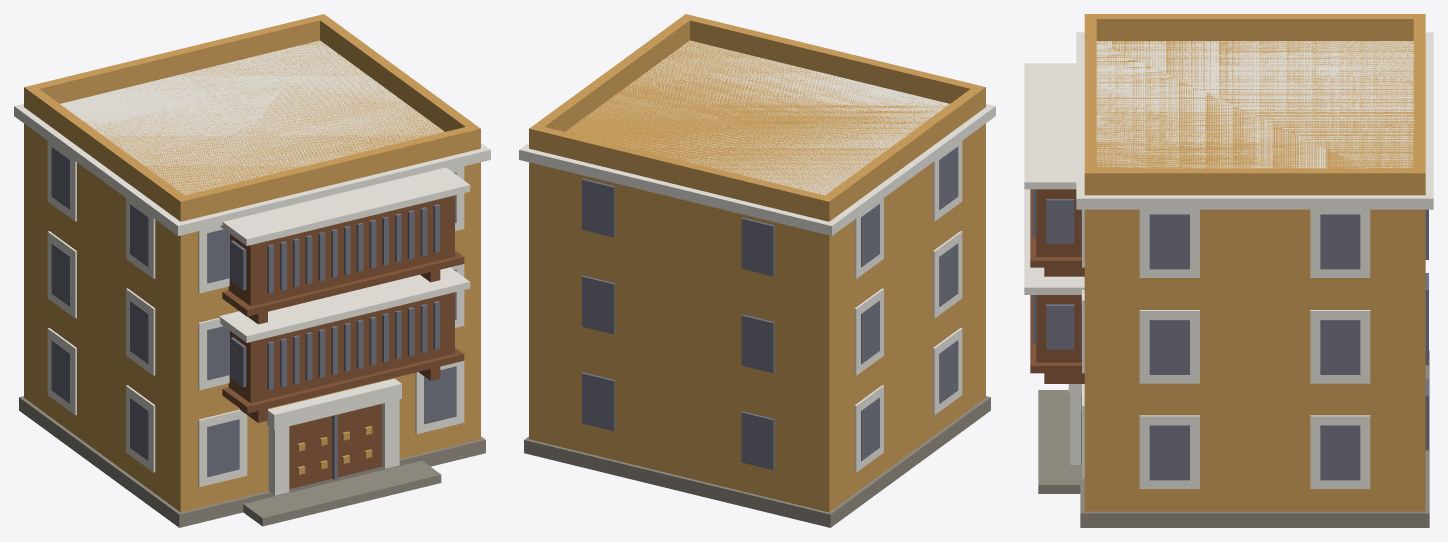
The model's file is house-1x1-3f-quincha-a.glb.
3 views of the same model, side by side, from view 1: azimuth 30°, elevation 25°; view 2: azimuth 150°, elevation 25°; view 3: azimuth 270°, elevation 25° (orthographic). The views are drawn at different scales.
Visible parts, largest first — view 1: house-1x1-3f-quincha-a; view 2: house-1x1-3f-quincha-a; view 3: house-1x1-3f-quincha-a.
Boxes of the visible parts, x1,y1,x2,y2 form: house-1x1-3f-quincha-a: [14, 14, 490, 527]; house-1x1-3f-quincha-a: [519, 14, 995, 527]; house-1x1-3f-quincha-a: [1024, 14, 1433, 527].
Bounding box in the file's own units: 0.98 × 0.97 × 1.02.
1 material, 1 textured.
